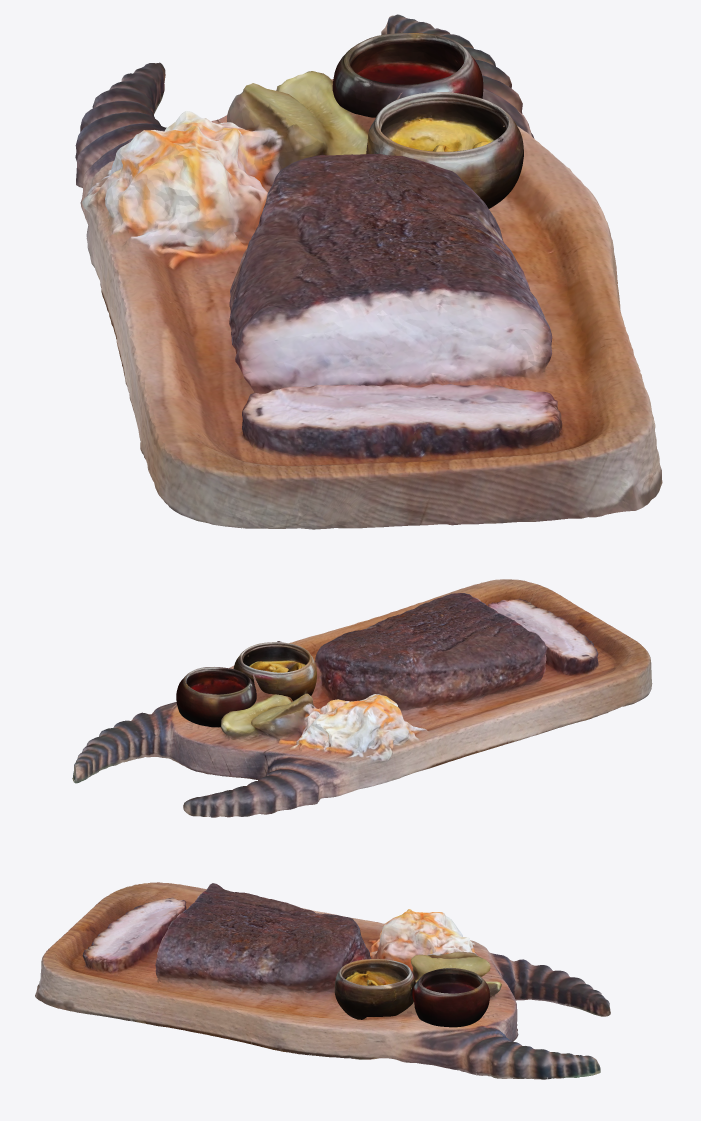
Rendered from staike.koochik.final.glb.
3 renders of one model, top to bottom at view 1: azimuth 30°, elevation 25°; view 2: azimuth 150°, elevation 25°; view 3: azimuth 270°, elevation 25°, orthographic. The views are drawn at different scales.
Visible parts, largest first — view 1: object 1, world; view 2: object 1, world; view 3: object 1, world.
Part boxes in pixels (x1=…): object 1: x1=75, y1=14, x2=662, y2=529; world: x1=332, y1=33, x2=523, y2=208; object 1: x1=72, y1=579, x2=652, y2=817; world: x1=176, y1=641, x2=316, y2=727; object 1: x1=35, y1=882, x2=610, y2=1079; world: x1=334, y1=959, x2=489, y2=1027.
Size of the model in its own units: 0.405 by 0.0749 by 0.5592.
4 materials, 2 textured.
